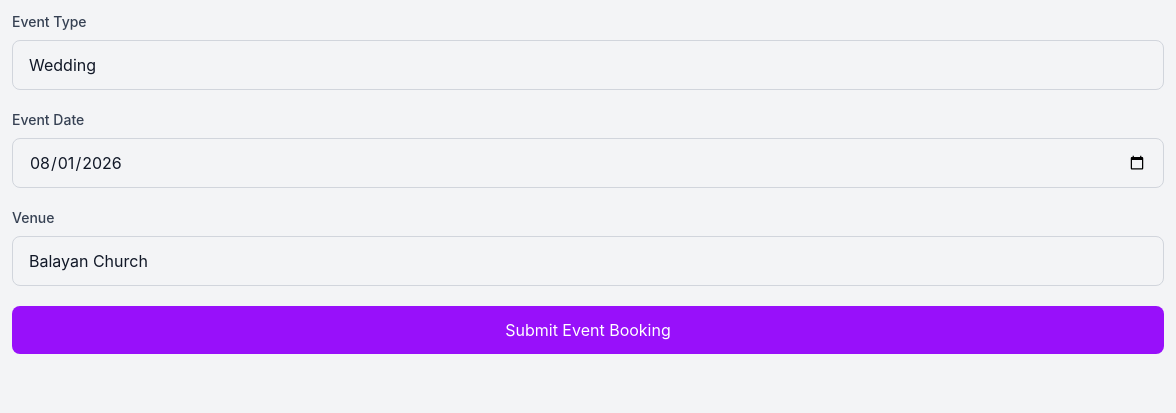
it: EventInformation Component › shows success message when all fields are complete
Click the button "Submit Event Booking": point(588, 330) left=12, top=306, right=1164, bottom=354
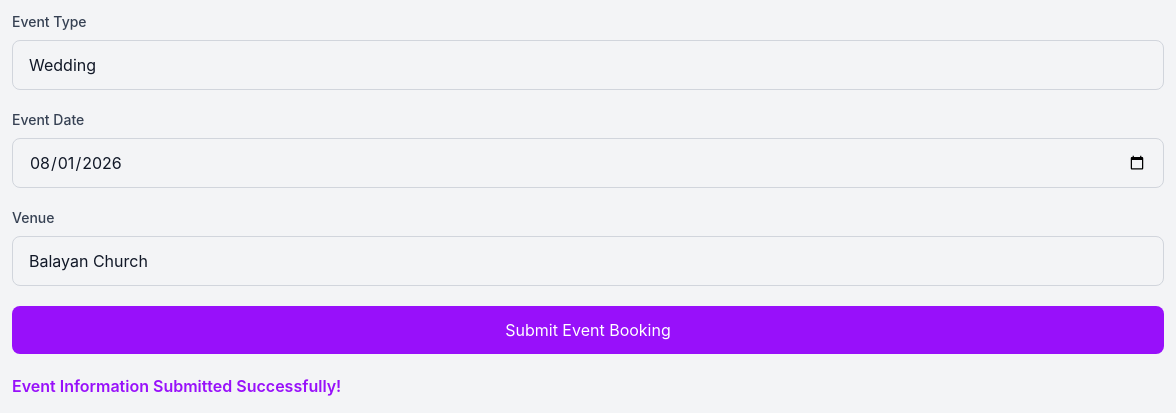
Result: the text "Event Information Submitted Successfully!" is shown at left=12, top=376, right=341, bottom=396
